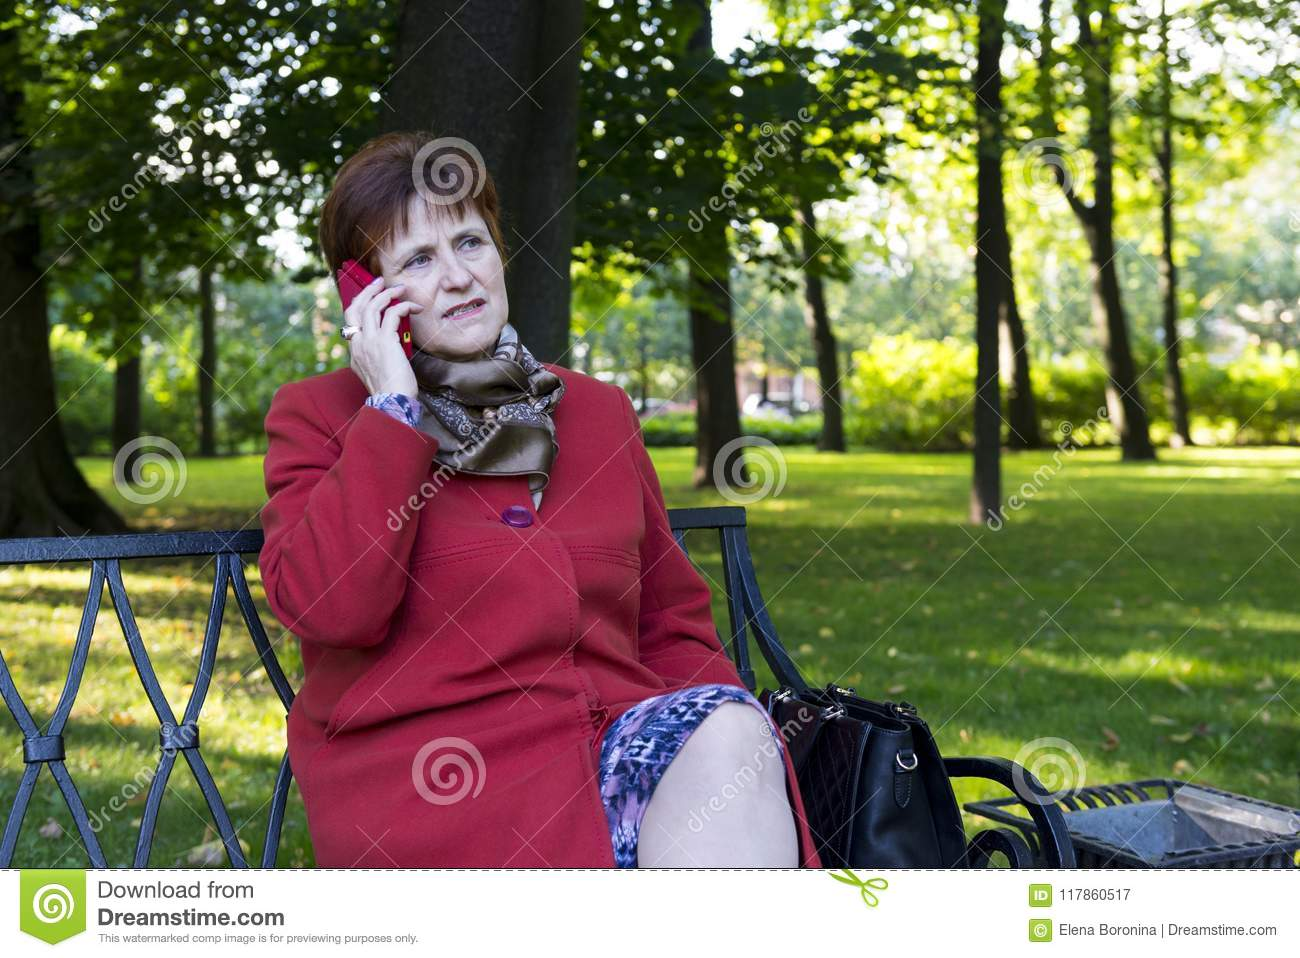phone: (344, 259, 425, 364)
talk: (337, 218, 514, 410)
